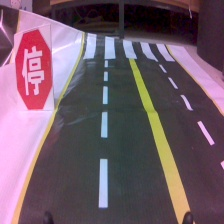stop: (13, 24, 56, 112)
